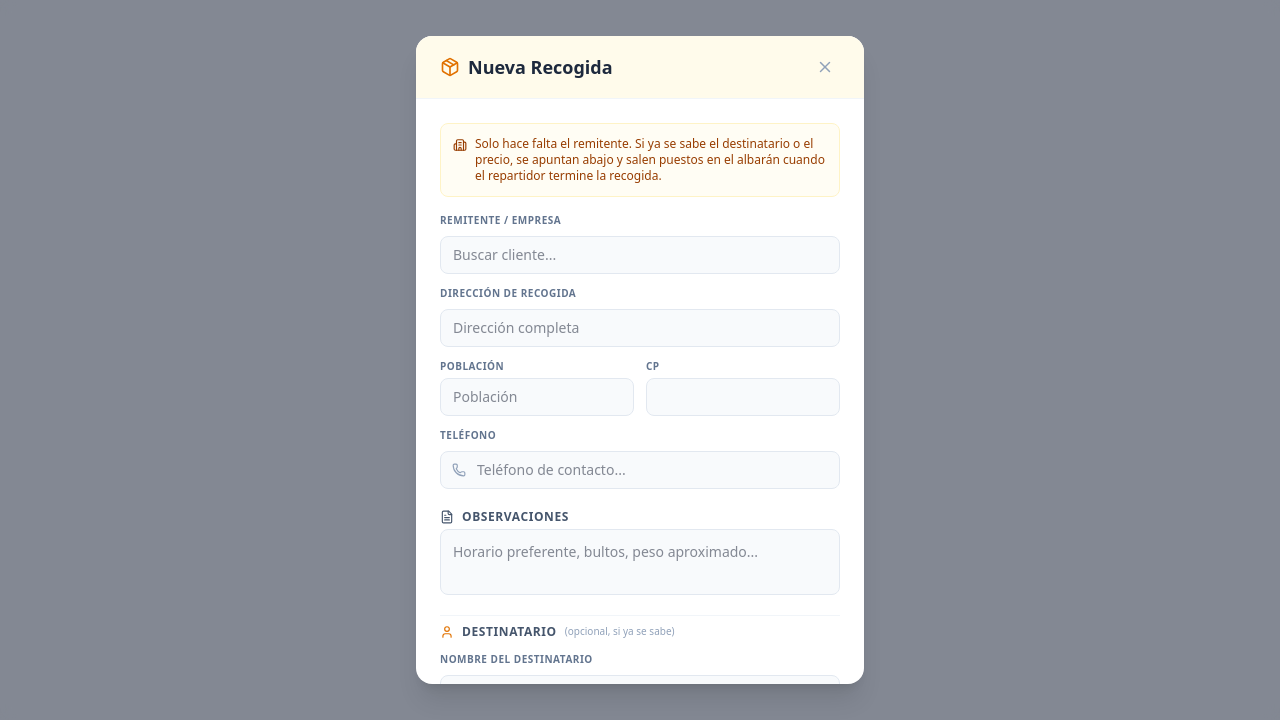
CreatePickupModal — población y código postal › rellena la población al teclear un CP conocido
In the 4th field: (743, 397) [646,378,840,416], type "14540"
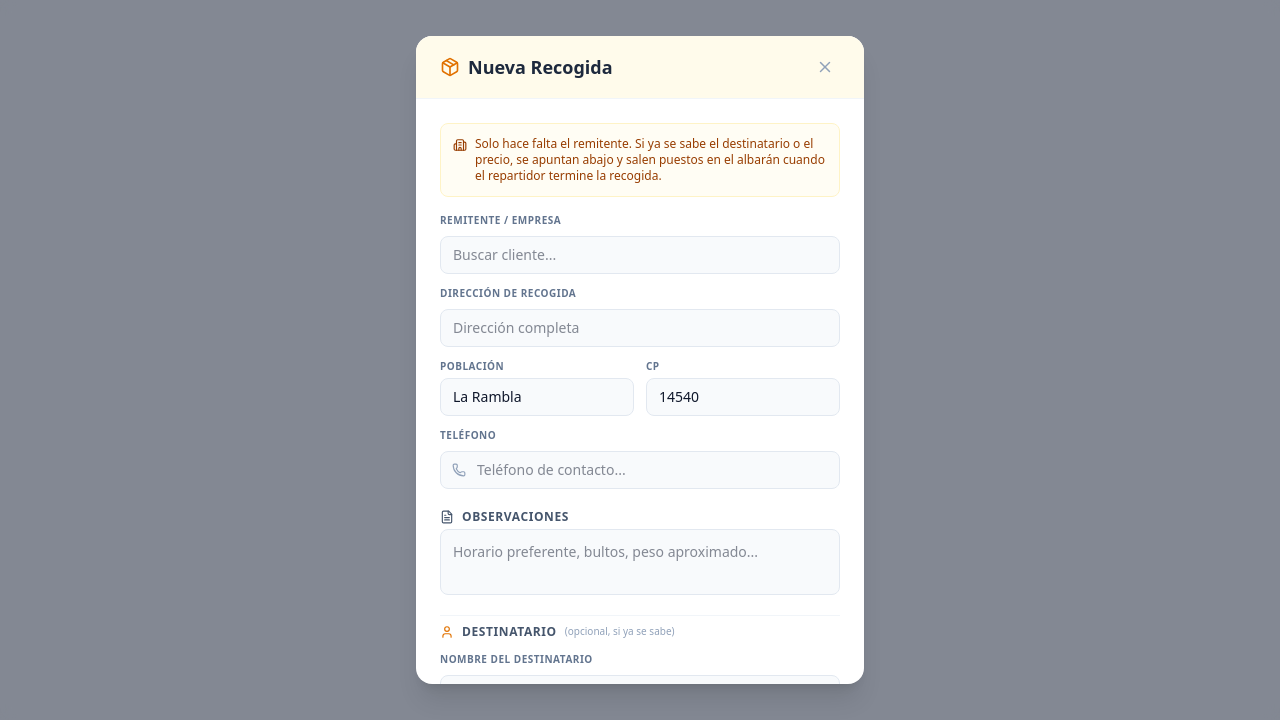
Result: the field with placeholder "Población" below "Población" holds "La Rambla" at [440,378,634,416]
